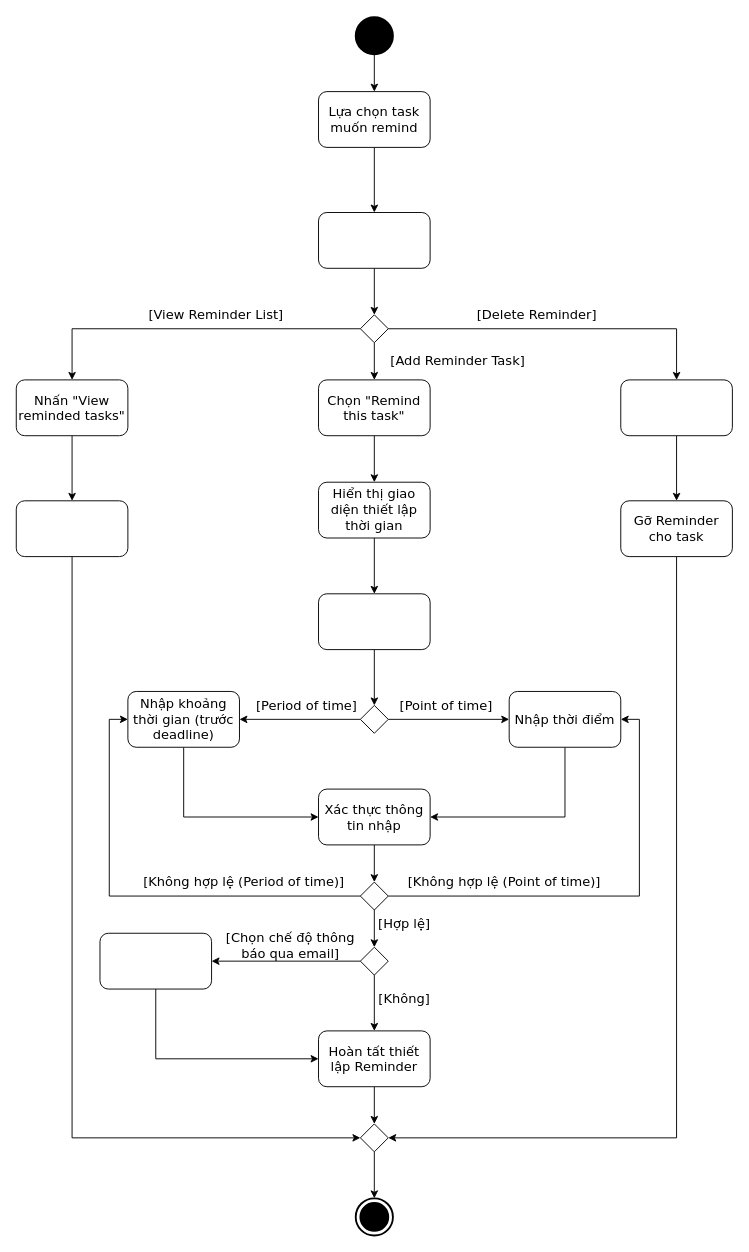
Image size: 749x1252. Some labels were removed from this diagram. The centre of each missing label's shape, as x and y in pixels:
Hiển thị danh sách các task được nhắc nhở: (71,528)
Lựa chọn chế độ thời gian: (374,621)
Mở khung "More actions": (374,240)
Nhấn "Delete Reminder on this task": (676,407)
Thiết lập email và nội dung thông báo: (155,960)
